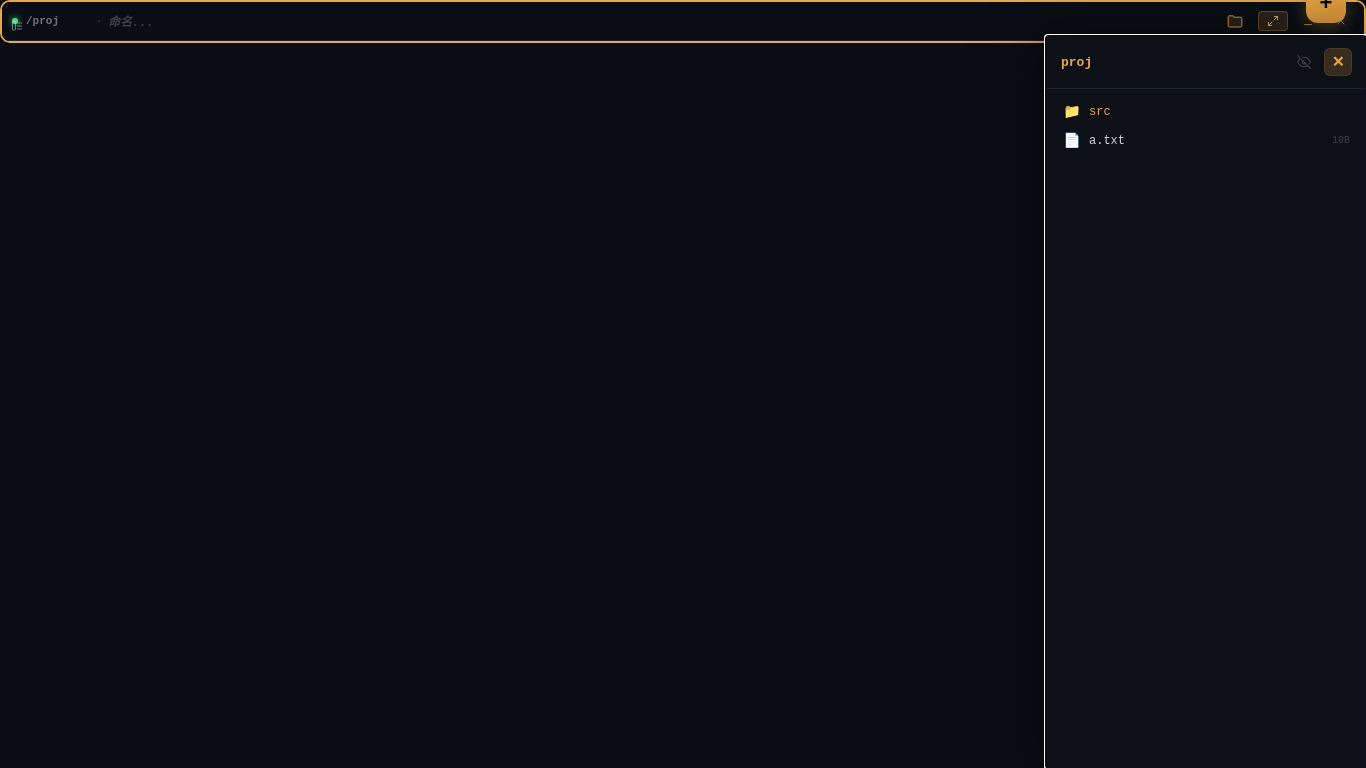
Test case: M6 批A 文件面板 live › 展开目录 → 子 readDir、缩进+1；折叠再展开不重拉（cache）
Click the element with class "file-item" showing "📁 src" at [1087, 112], box [1063,104,1111,120]
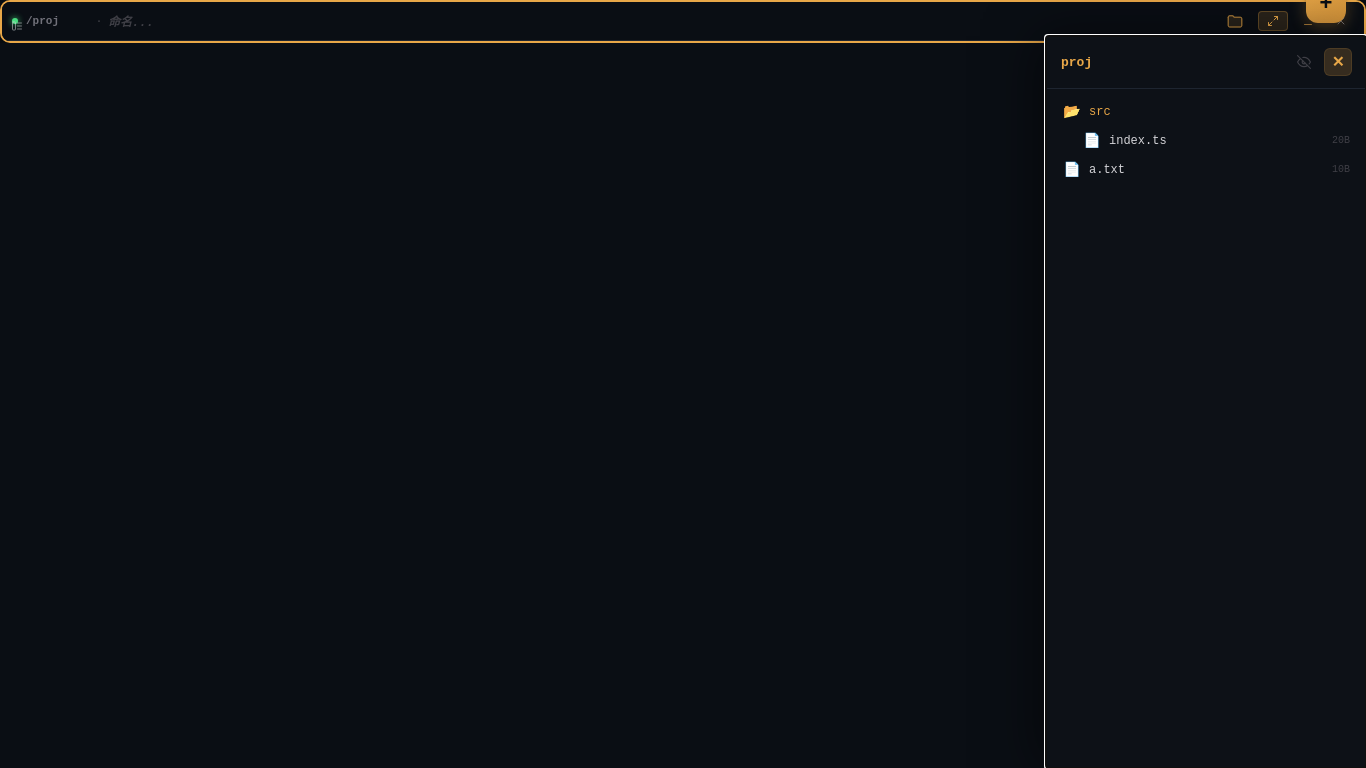
Result: the text "index.ts" is shown at [1109,134,1167,148]
Result: the element with class "file-item" showing "📄 index.ts 20B" is shown at [1083,133,1350,149]
Click the element with class "file-item" showing "📂 src" at [1087, 112], box [1063,104,1111,120]
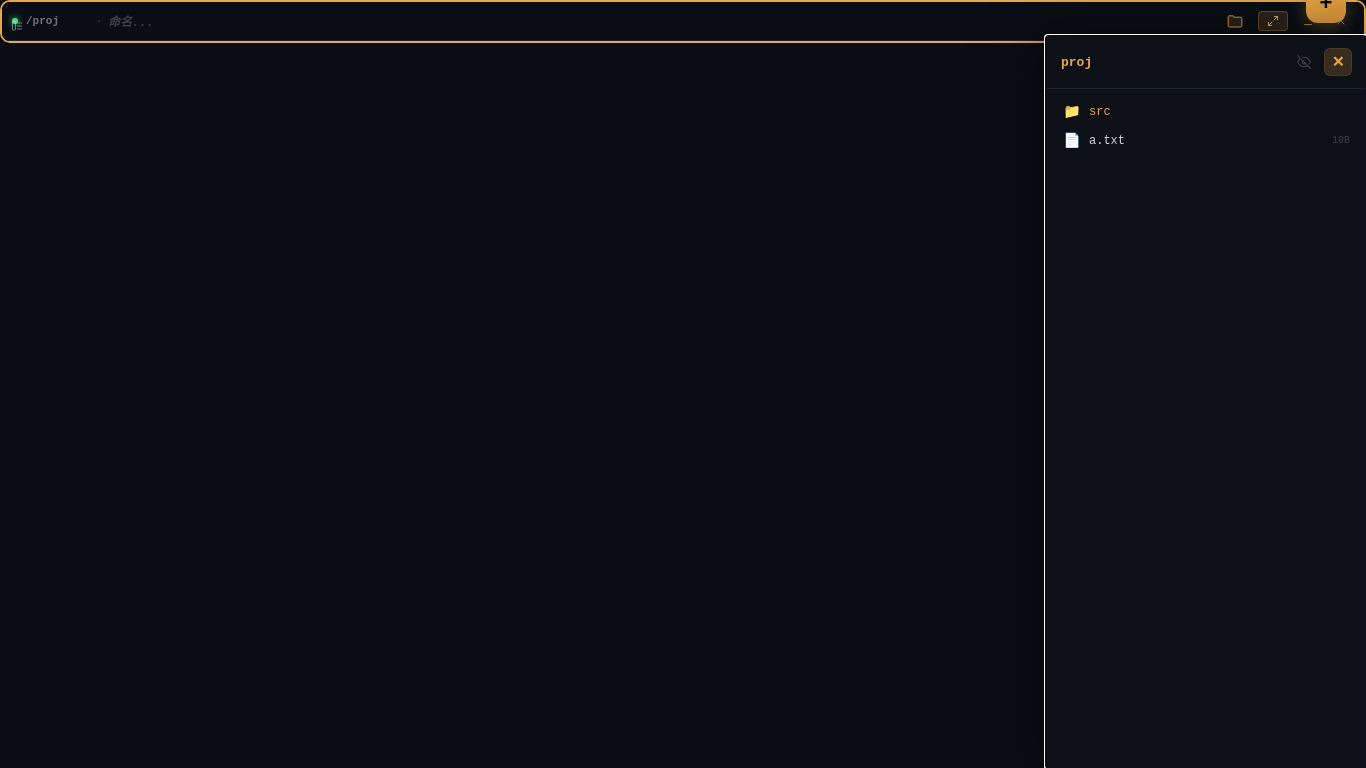
Result: the text "index.ts" is gone
Click the element with class "file-item" showing "📁 src" at [1087, 112], box [1063,104,1111,120]
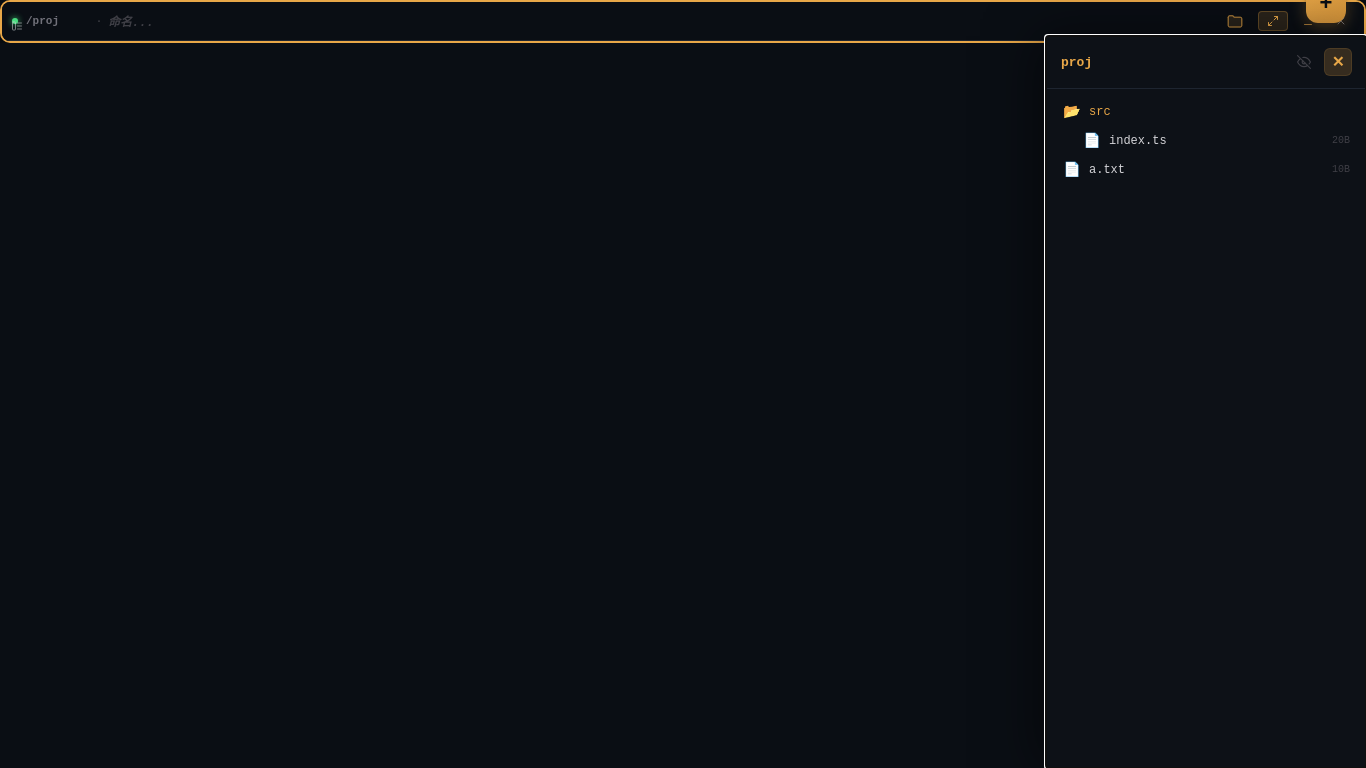
Result: the text "index.ts" is shown at [1109,134,1167,148]
